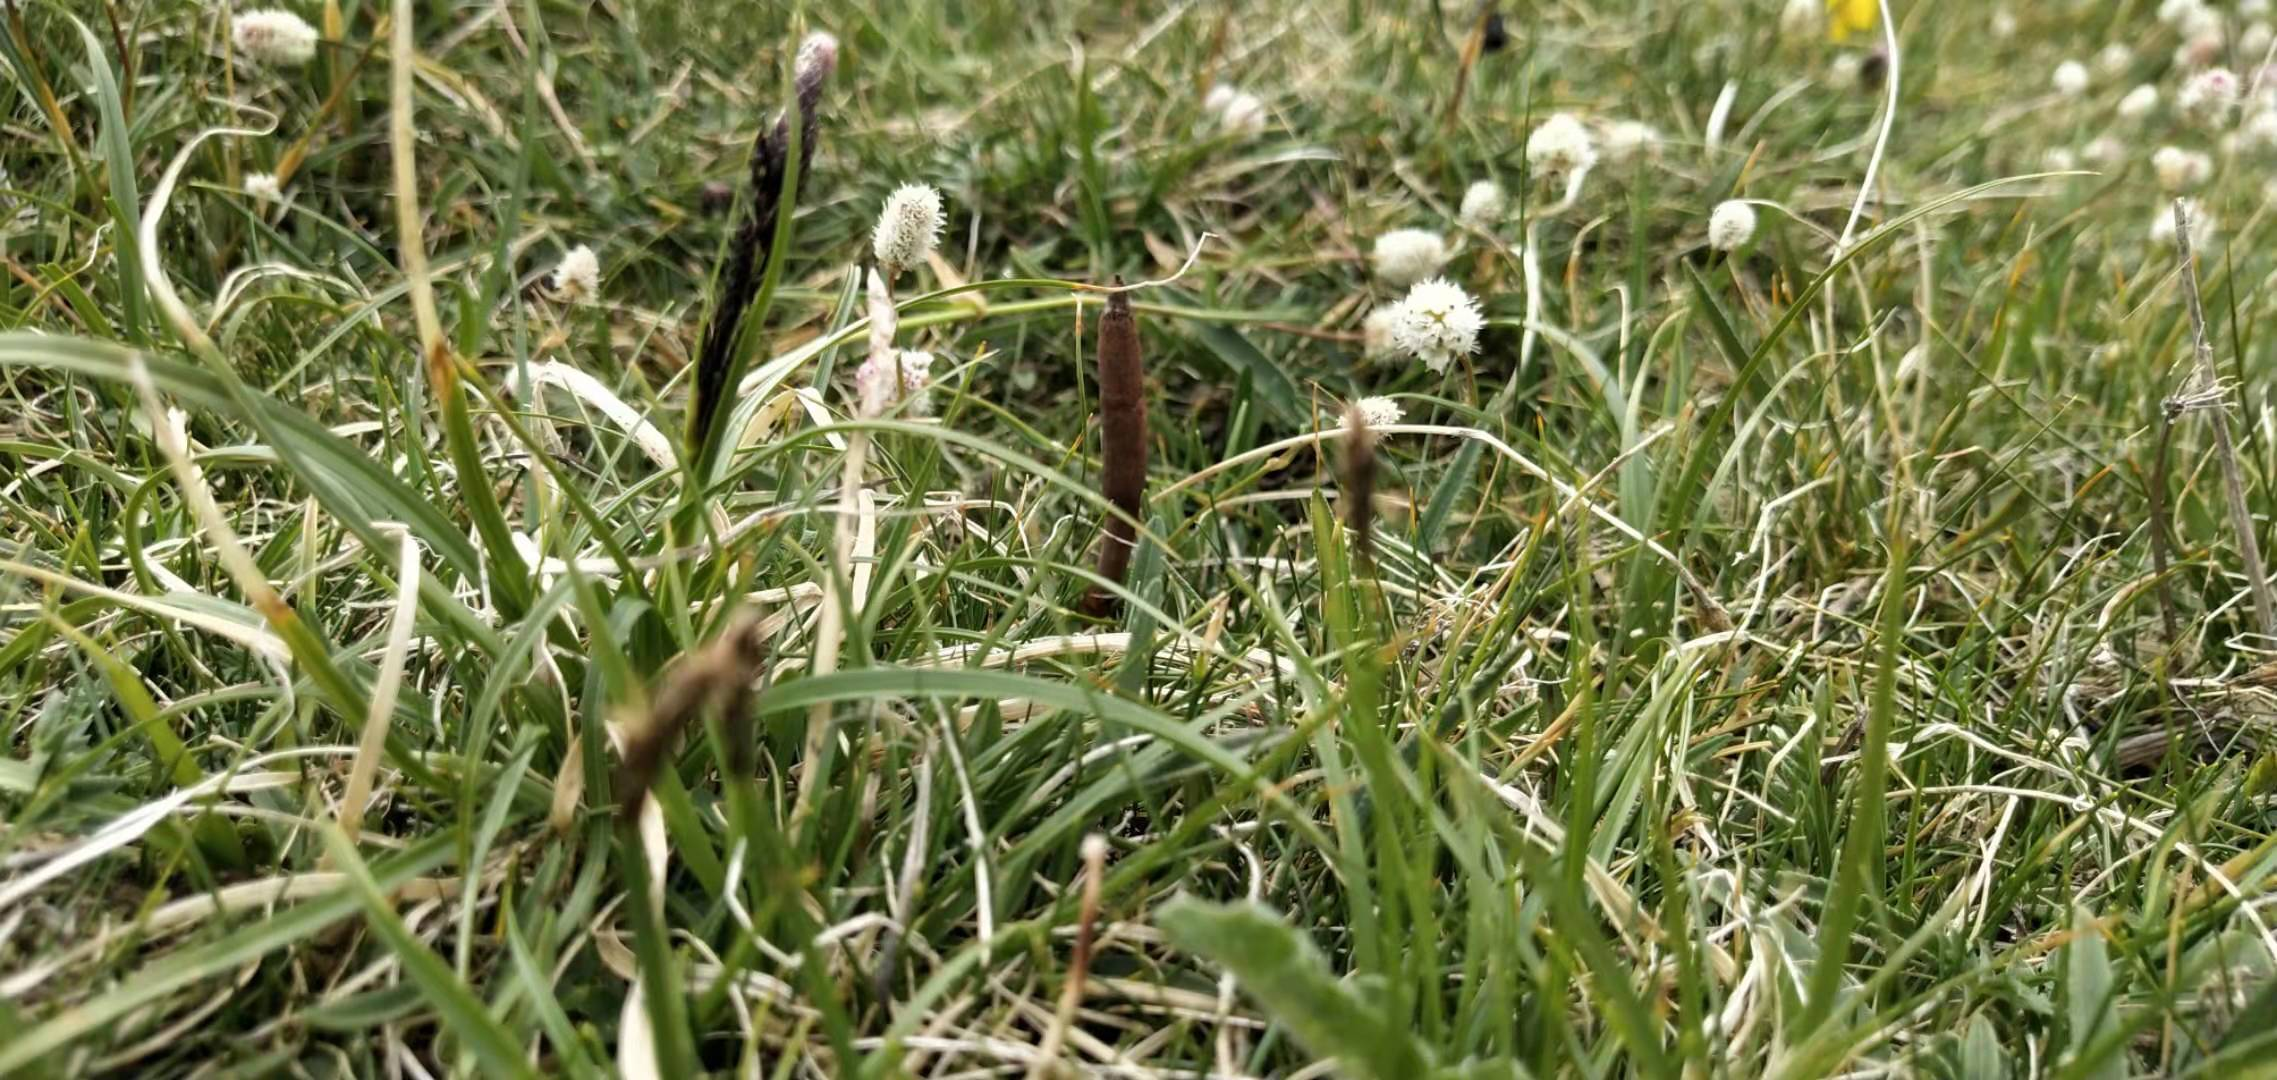Chongcao: (1098, 273, 1147, 605)
